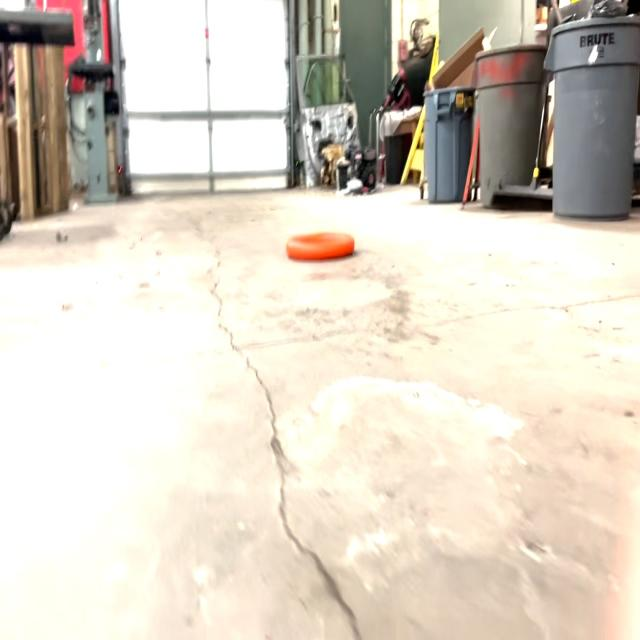note: (286, 231, 358, 263)
